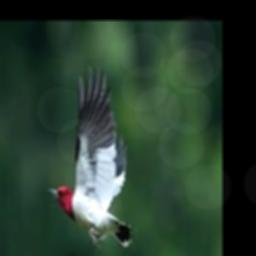Woodpecker: (47, 65, 136, 247)
